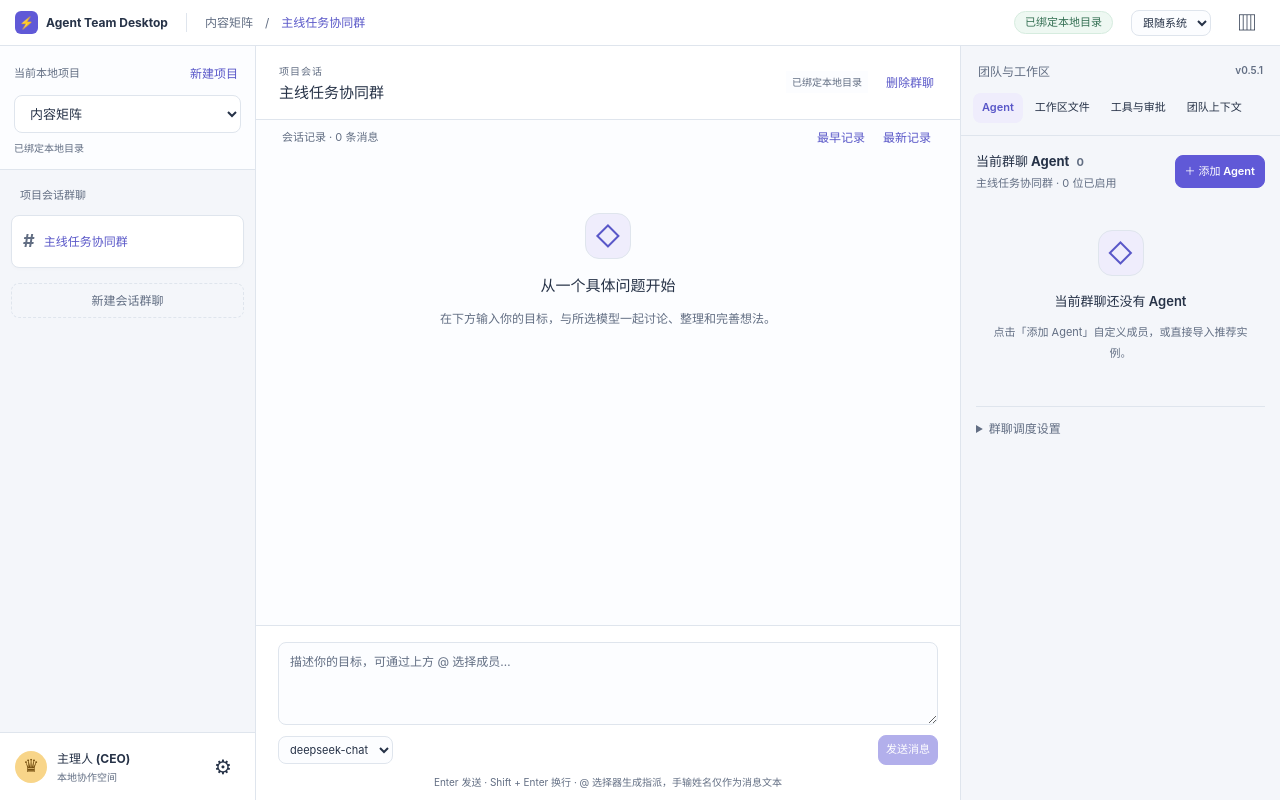
retains draft and hides internal diagnostics on send rejection, and releases subscriptions
The image size is (1280, 800).
Expected: the heading "主线任务协同群" is shown, left=279, top=81, right=384, bottom=105
Type "保留草稿" into the text box named "消息内容". click: [608, 684]
box: left=278, top=642, right=938, bottom=725
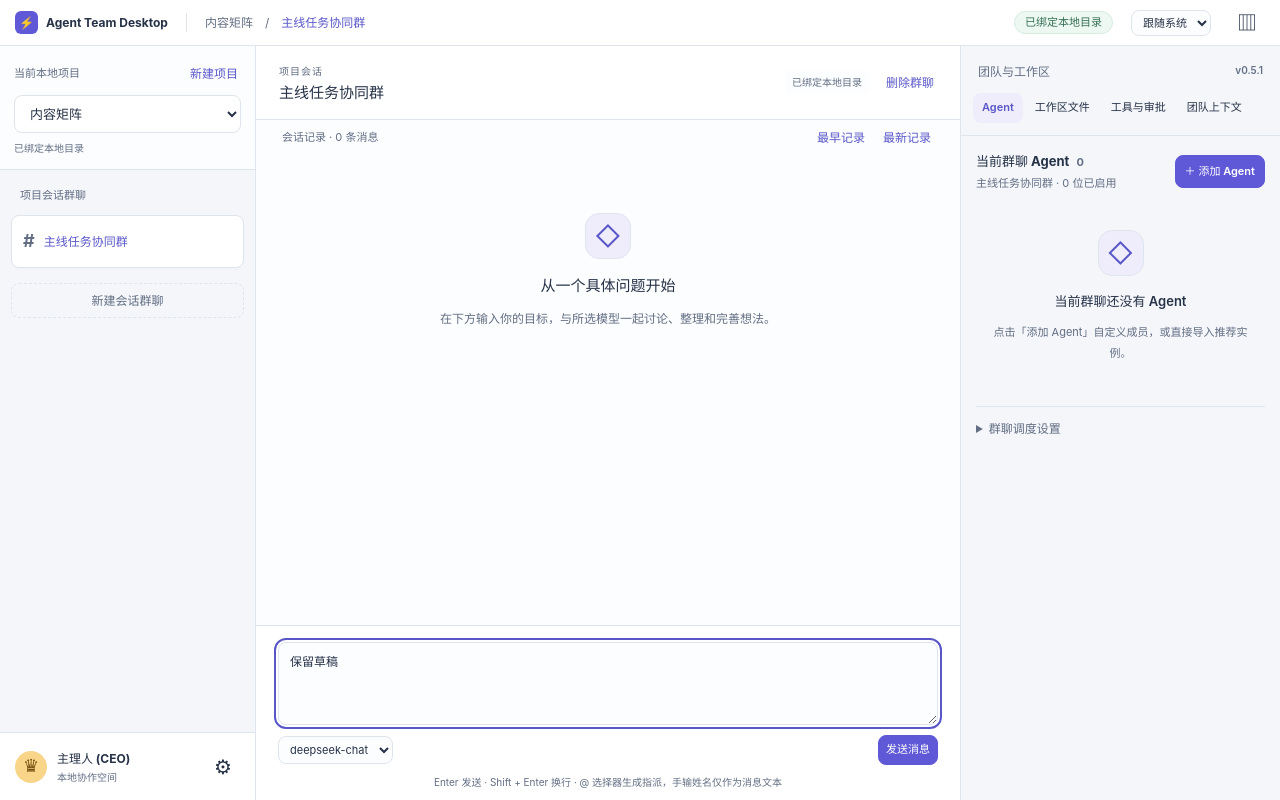
Click the button "发送消息". click: [908, 750]
box: left=878, top=735, right=938, bottom=765
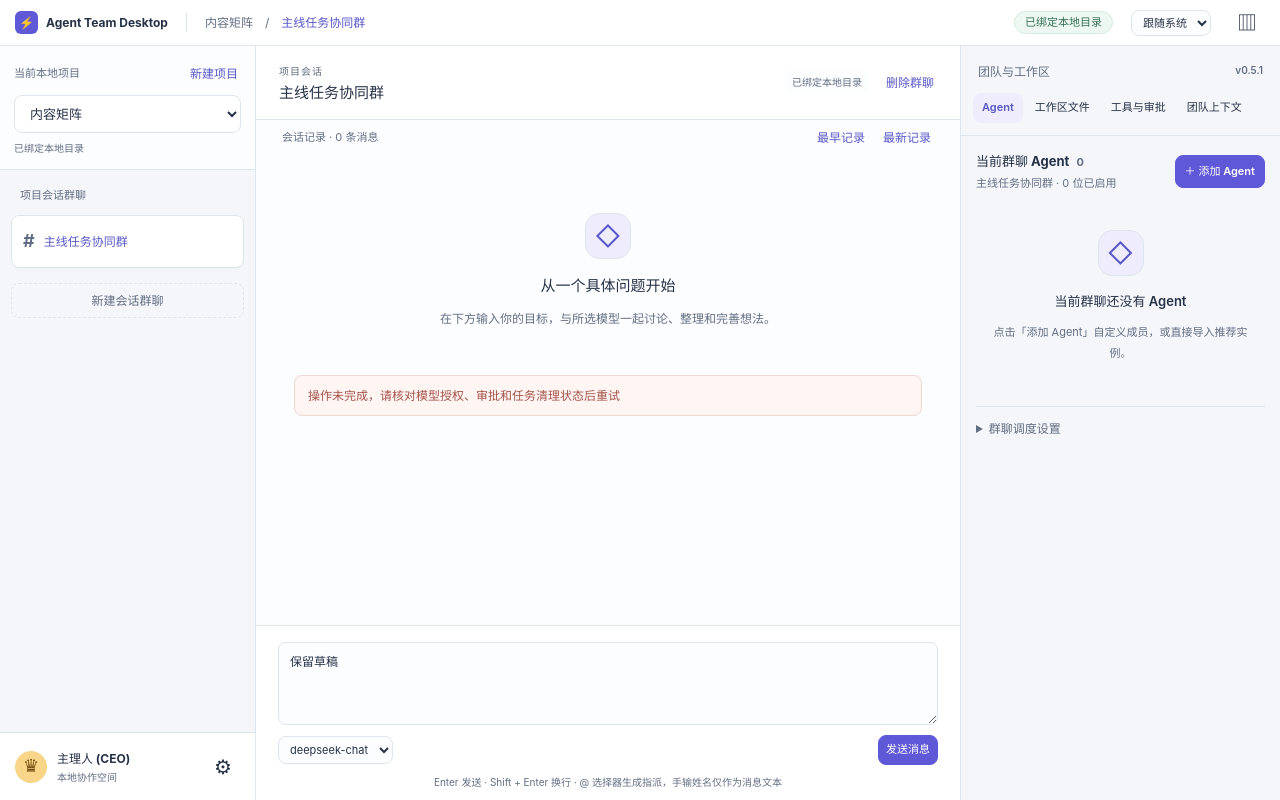
Now the message shows "操作未完成", box left=308, top=388, right=620, bottom=403
